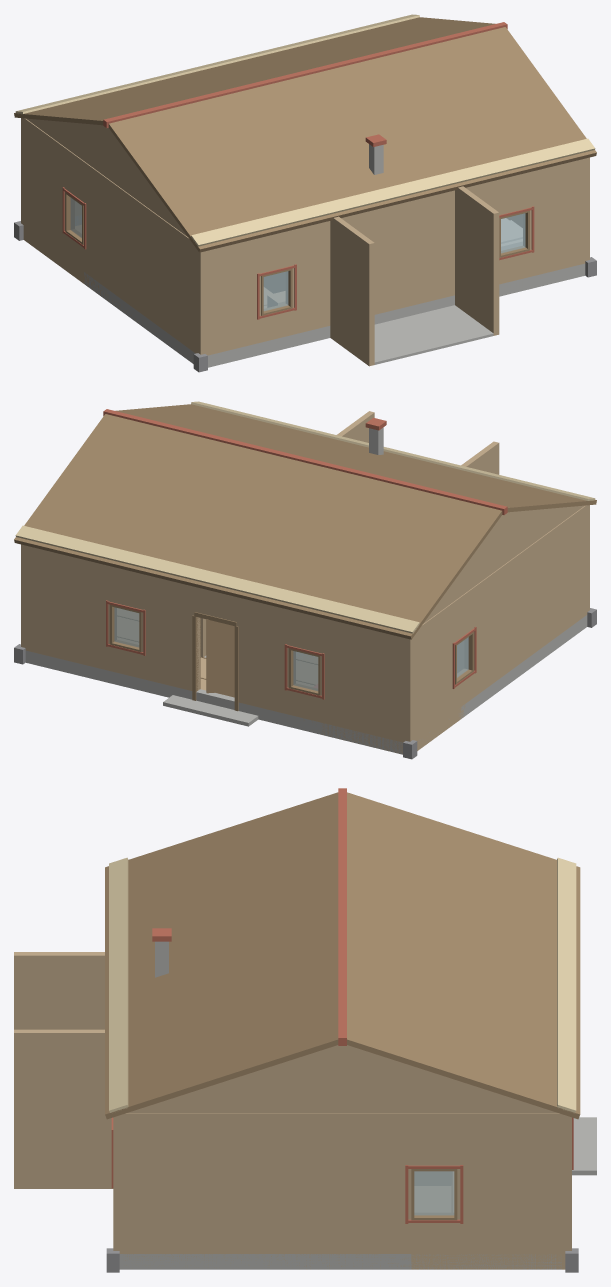
File: 18-Casas_casa_casona.glb
3 views of the same model, one above another, from view 1: azimuth 30°, elevation 25°; view 2: azimuth 150°, elevation 25°; view 3: azimuth 270°, elevation 25° (orthographic). The views are drawn at different scales.
Visible parts, largest first — view 1: SM_Techo_Dos_Aguas, SM_Muro_B, SM_Muro_L, SM_Tabiques_Dorm, SM_Zocalo_Perimetro, SM_Piso_Cocina, SM_Ventana_Marco, SM_Ventana_Vidrio, SM_Mueble_Cocina_Lena, SM_Mueble_Cama_Basica; view 2: SM_Techo_Dos_Aguas, SM_Muro_F, SM_Muro_L, SM_Zocalo_Perimetro, SM_Ventana_Marco, SM_Ventana_Vidrio, SM_Puerta_Hoja, SM_Piso_Sala, SM_Tabiques_Dorm, SM_Puerta_Marco, SM_Porche_Entrada, SM_Muro_R (+1 smaller); view 3: SM_Techo_Dos_Aguas, SM_Muro_R, SM_Tabiques_Dorm, SM_Zocalo_Perimetro, SM_Ventana_Marco, SM_Ventana_Vidrio, SM_Muro_F, SM_Porche_Entrada, SM_Piso_Sala, SM_Mueble_Cocina_Lena.
Part boxes in pixels (x1,y1,x2,y2): SM_Techo_Dos_Aguas: (14,14,596,252); SM_Muro_B: (196,157,589,355); SM_Muro_L: (21,118,206,353); SM_Tabiques_Dorm: (264,186,499,366); SM_Zocalo_Perimetro: (14,215,596,372); SM_Piso_Cocina: (374,305,493,364); SM_Ventana_Marco: (62,187,534,319); SM_Ventana_Vidrio: (70,197,525,311); SM_Mueble_Cocina_Lena: (365,134,386,174); SM_Mueble_Cama_Basica: (501,218,522,250); SM_Techo_Dos_Aguas: (14,401,596,639); SM_Muro_F: (28,546,411,754); SM_Muro_L: (403,505,589,750); SM_Zocalo_Perimetro: (14,608,596,759); SM_Ventana_Marco: (106,600,476,699); SM_Ventana_Vidrio: (114,607,468,691); SM_Puerta_Hoja: (206,619,234,697); SM_Piso_Sala: (117,608,317,690); SM_Tabiques_Dorm: (200,411,499,657); SM_Puerta_Marco: (192,612,238,711); SM_Porche_Entrada: (163,695,258,726); SM_Muro_R: (21,544,27,650); SM_Techo_Dos_Aguas: (105,788,580,1119); SM_Muro_R: (113,1113,571,1269); SM_Tabiques_Dorm: (14,952,451,1188); SM_Zocalo_Perimetro: (106,1248,578,1272); SM_Ventana_Marco: (111,1117,573,1223); SM_Ventana_Vidrio: (414,1171,454,1215); SM_Muro_F: (561,1114,571,1269); SM_Porche_Entrada: (572,1117,596,1175); SM_Piso_Sala: (414,1171,453,1212); SM_Mueble_Cocina_Lena: (152,928,171,977).
Bounding box in the file's own units: 10.3 × 4.53 × 10.17.
